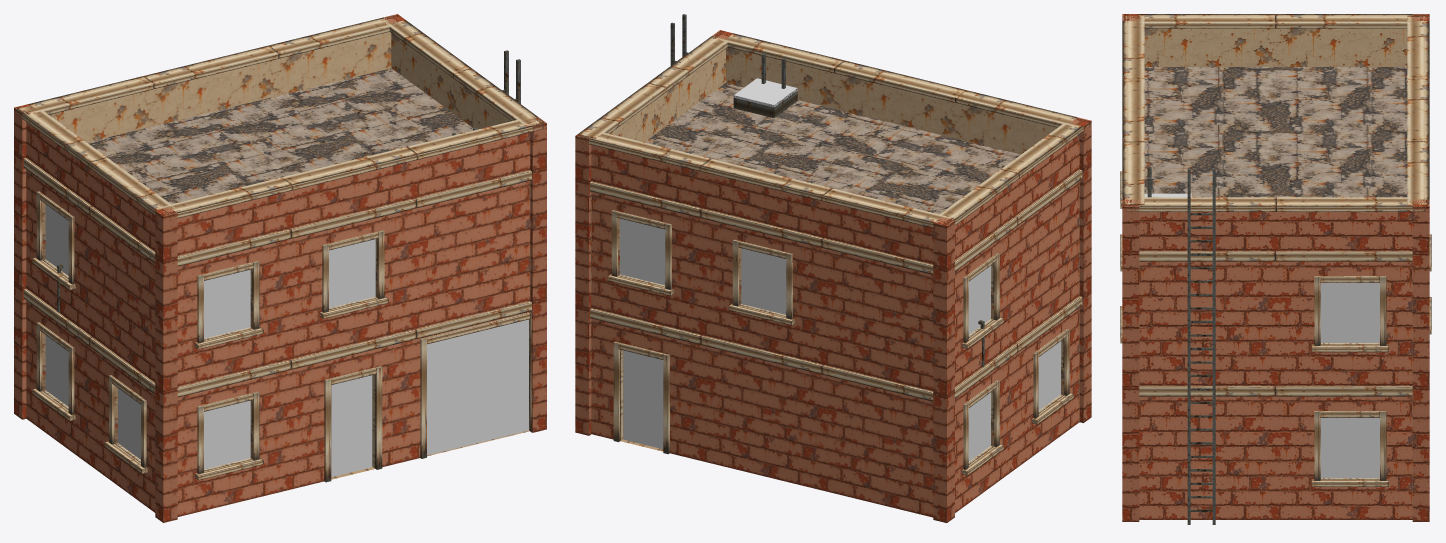
File: building_kit_test_visual.glb
The picture shows the model from 3 angles, left to right: view 1: azimuth 30°, elevation 25°; view 2: azimuth 150°, elevation 25°; view 3: azimuth 270°, elevation 25°; orthographic projection. The views are drawn at different scales.
Parts seen in each view (by area): view 1: wallB_solid__L1_S0_B2, wallB_window__L1_S0_B1, wallB_door_C__L0_S0_B1, wallB_window__L0_S0_B0, wallB_window__L1_S0_B0, col_wallB_wide_shutter__L0_S0_B2, wallB_solid__L1_S3_B1, roof__L2_F1_1, wallB_window__L0_S3_B0, wallB_window__L1_S3_B0, roof__L2_F2_1, wallB_window__L0_S3_B1 (+30 smaller); view 2: wallB_solid__L0_S2_B1, wallB_solid__L0_S2_B2, wallB_solid__L1_S2_B2, wallB_window__L1_S2_B1, wallB_window__L1_S2_B0, wallB_door_C__L0_S2_B0, wallB_solid__L1_S3_B1, roof__L2_F1_0, wallB_window__L0_S3_B1, wallB_window__L0_S3_B0, wallB_window__L1_S3_B0, roof_hatch__L2_F2_0 (+30 smaller); view 3: wallB_solid__L1_S1_B0, wallB_solid__L0_S1_B0, wallB_window__L1_S1_B1, wallB_window__L0_S1_B1, roof__L2_F1_1, roof__L2_F1_0, roof__L2_F0_0, roof__L2_F0_1, wall_parapet__L2_S1_B1, wall_parapet__L2_S1_B0, wall_parapet__L2_S3_B0, wall_parapet__L2_S3_B1 (+17 smaller).
Part boxes in pixels (x1,y1,x2,y2): wallB_solid__L1_S0_B2: (415,169,531,328); wallB_window__L1_S0_B1: (290,197,416,358); wallB_door_C__L0_S0_B1: (290,328,416,489); wallB_window__L0_S0_B0: (177,359,291,516); wallB_window__L1_S0_B0: (177,228,291,385); col_wallB_wide_shutter__L0_S0_B2: (427,319,528,455); wallB_solid__L1_S3_B1: (90,206,155,381); roof__L2_F1_1: (152,96,342,174); wallB_window__L0_S3_B0: (23,288,92,466); wallB_window__L1_S3_B0: (23,157,92,336); roof__L2_F2_1: (277,68,456,144); wallB_window__L0_S3_B1: (90,337,155,512); wallB_solid__L0_S2_B1: (701,334,823,490); wallB_solid__L0_S2_B2: (822,364,933,517); wallB_solid__L1_S2_B2: (822,237,933,390); wallB_window__L1_S2_B1: (701,208,823,363); wallB_window__L1_S2_B0: (590,181,702,334); wallB_door_C__L0_S2_B0: (590,307,702,461); wallB_solid__L1_S3_B1: (1015,169,1082,341); roof__L2_F1_0: (773,109,957,185); wallB_window__L0_S3_B1: (1015,296,1082,468); wallB_window__L0_S3_B0: (955,343,1017,512); wallB_window__L1_S3_B0: (955,216,1017,386); roof_hatch__L2_F2_0: (662,82,836,156); wallB_solid__L1_S1_B0: (1139,250,1275,385); wallB_solid__L0_S1_B0: (1139,385,1275,519); wallB_window__L1_S1_B1: (1276,250,1412,385); wallB_window__L0_S1_B1: (1276,385,1412,519); roof__L2_F1_1: (1276,124,1407,187); roof__L2_F1_0: (1144,124,1275,187); roof__L2_F0_0: (1144,67,1275,124); roof__L2_F0_1: (1276,67,1407,124); wall_parapet__L2_S1_B1: (1275,197,1425,250); wall_parapet__L2_S1_B0: (1126,197,1276,250); wall_parapet__L2_S3_B0: (1275,14,1425,66); wall_parapet__L2_S3_B1: (1127,14,1276,66).
Bounding box in the file's own units: 9.38 × 8.1 × 6.28.
Materials: 10 (10 with a texture image).
